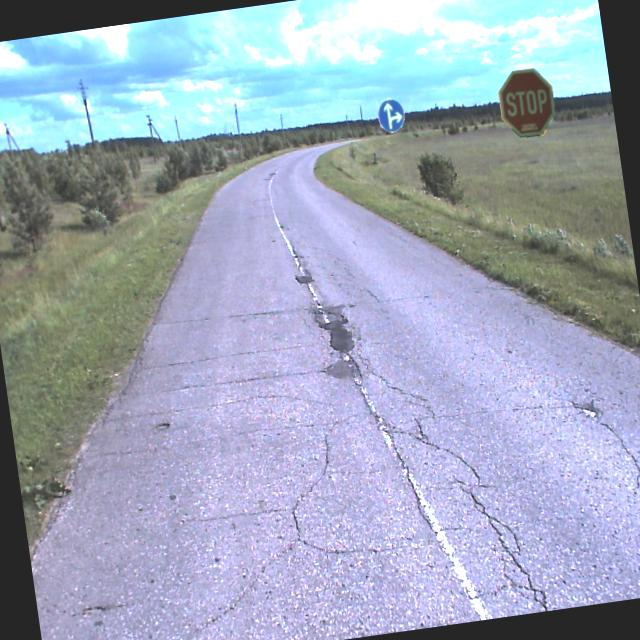road: (31, 139, 640, 640)
